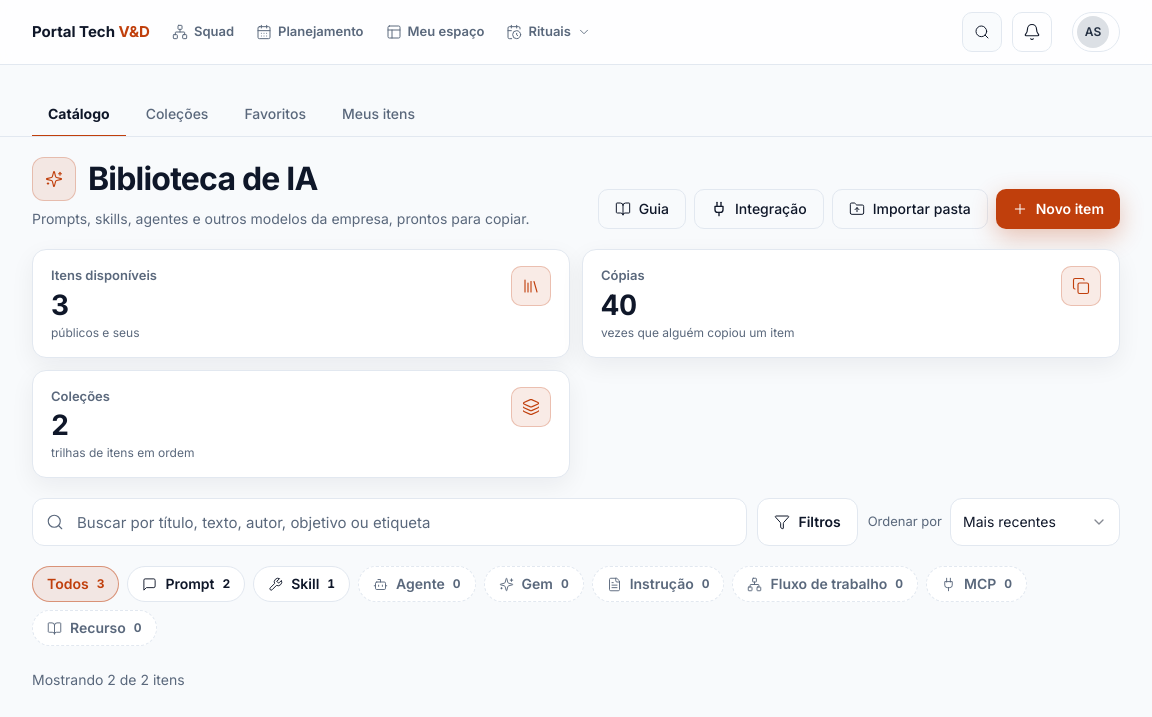
Catálogo › o Guia abre a folha lateral do kit
Click the button "Guia" at [642, 209], box [598,189,686,229]
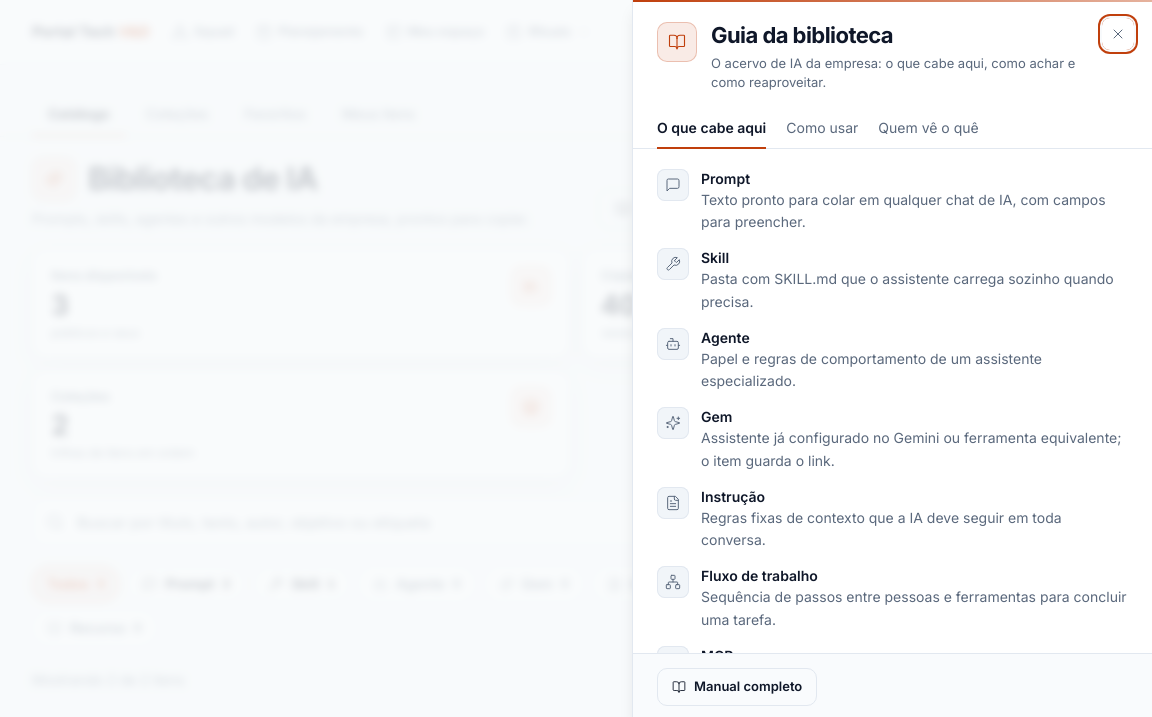
Expected: the button "Fluxo de trabalho 0" is shown, [732,566,918,602]
Now the heading "Guia da biblioteca" is shown, box [711,22,893,48]
